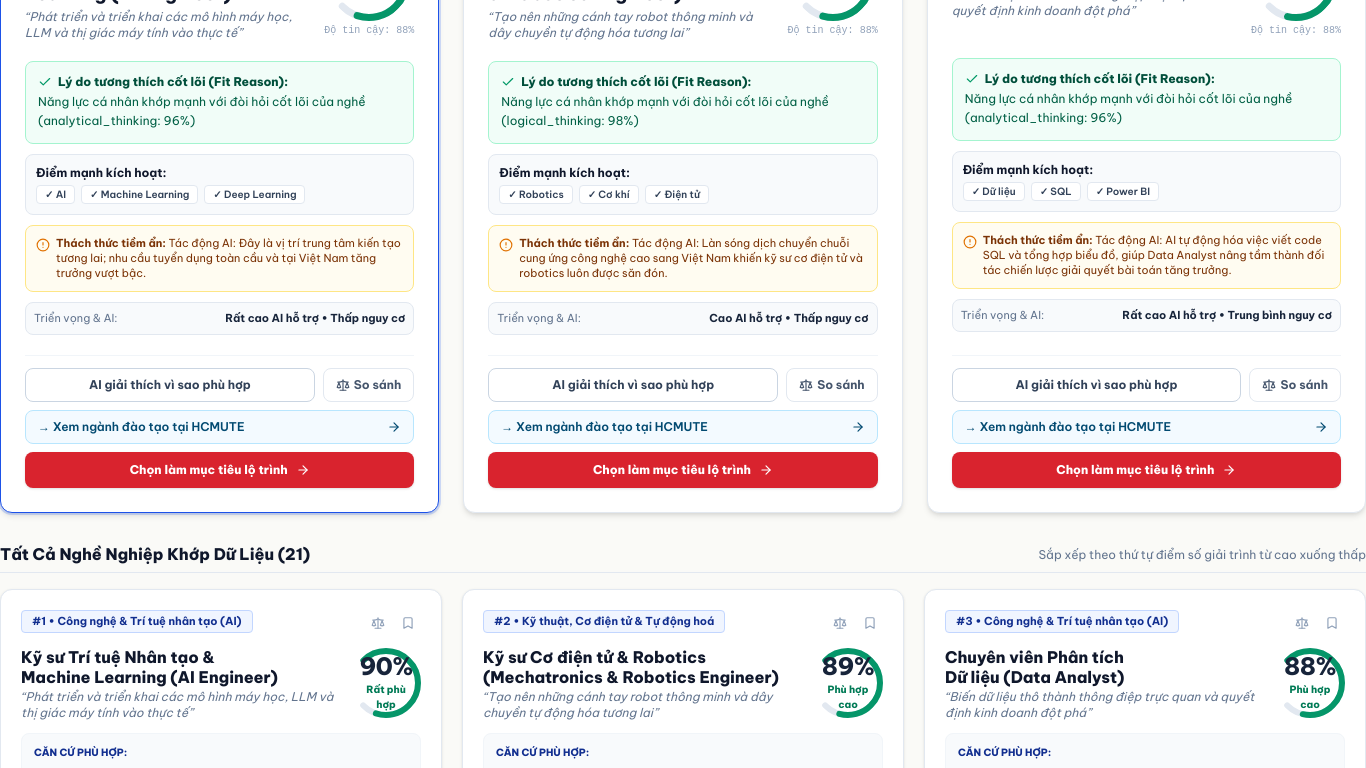
Test: MODULE PROMPT 04 — MATCH RESULTS (Career Intelligence Matching Dashboard) › 2. MATCH EXPLAINABILITY: opens XAI modal with 5 required pillars (Why it fits, Evidence, Mismatch, Confidence, Next action)
(page scrolled)
What coordinates should you click on to do the following:
click the button "AI giải thích vì sao phù hợp" below "Deep Learning"
I would click on:
 (170, 385)
Its box is [25,368,315,402].
(page scrolled)
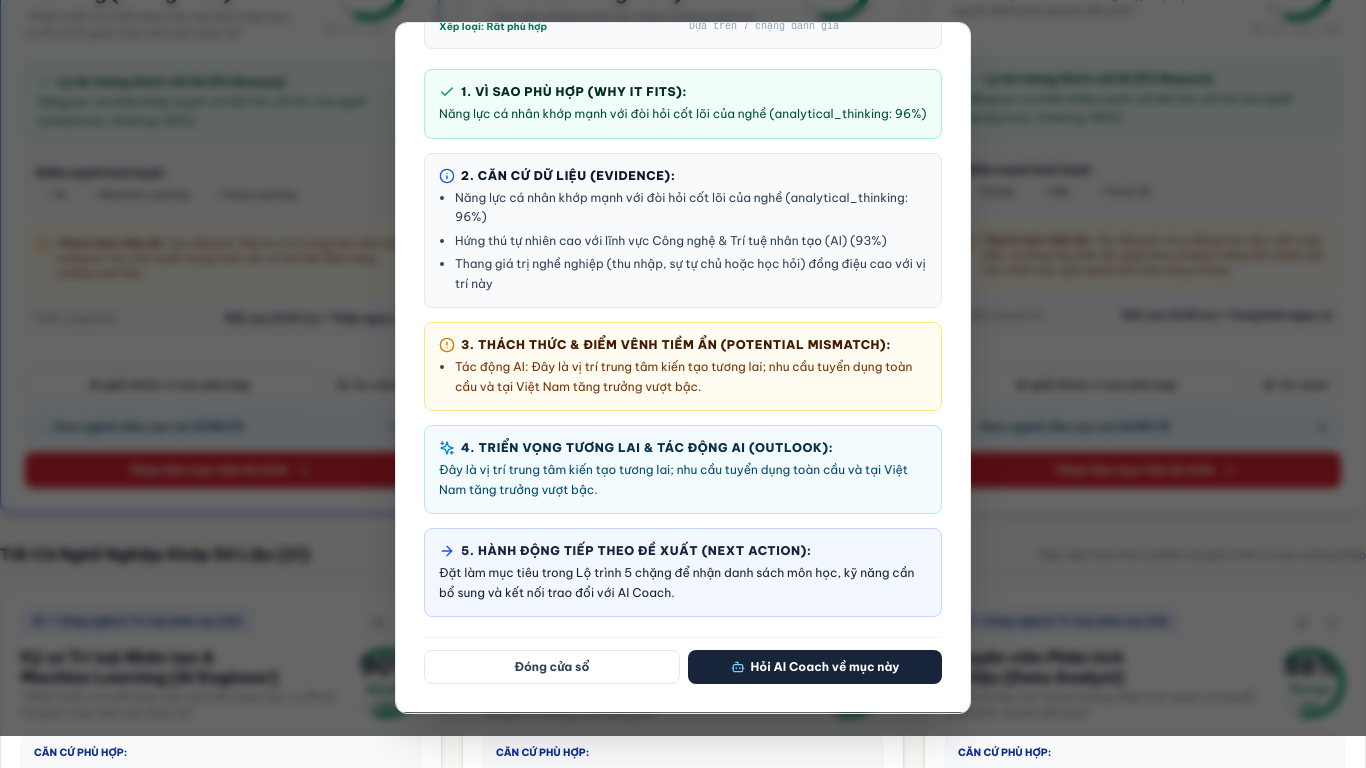
Now the dialog is shown
Now the text "1. Vì sao phù hợp (Why it fits):" is shown, box [461,85,687,100]
Now the text "2. Căn cứ dữ liệu (Evidence):" is shown, box [461,168,676,183]
// Close modal
What coordinates should you click on to do the following:
click the button "Đóng cửa sổ"
I would click on:
 (552, 667)
Its box is [424,650,680,684].
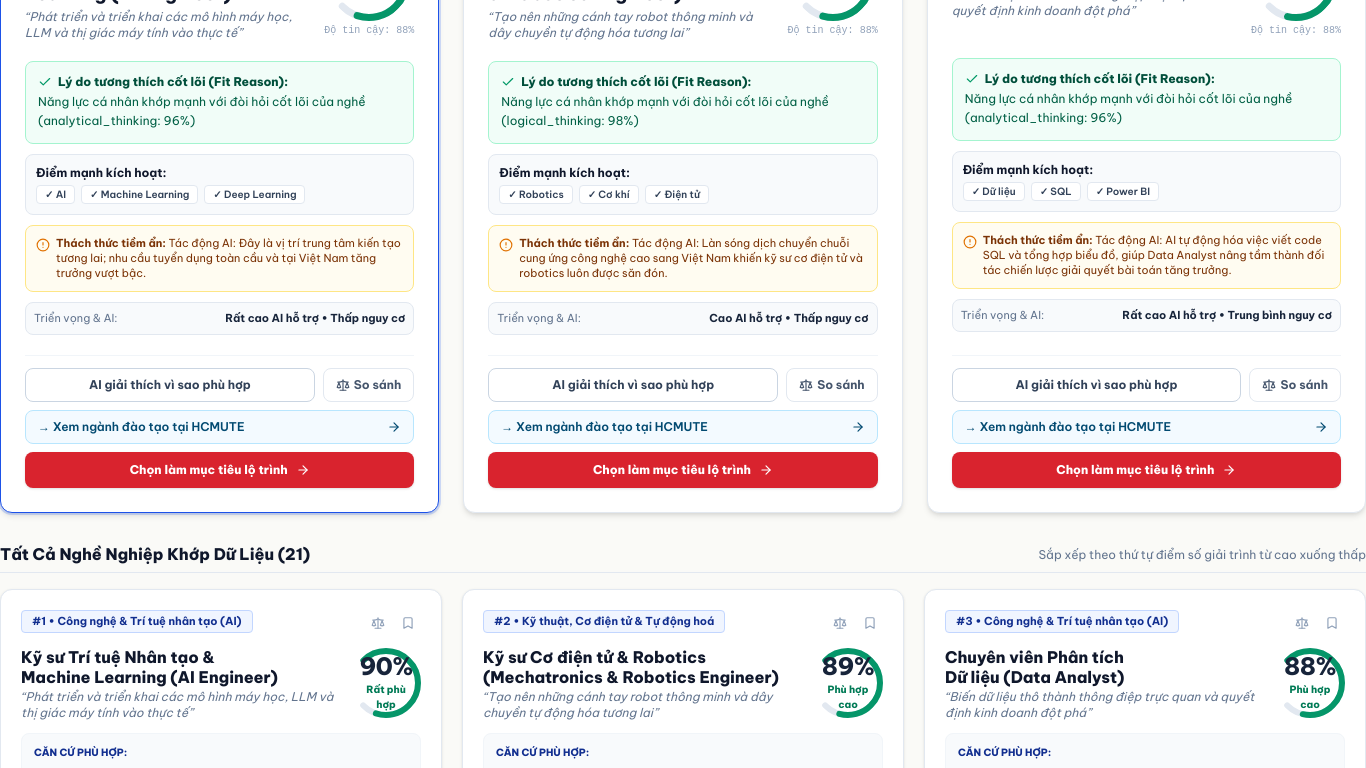
Now the dialog is gone
